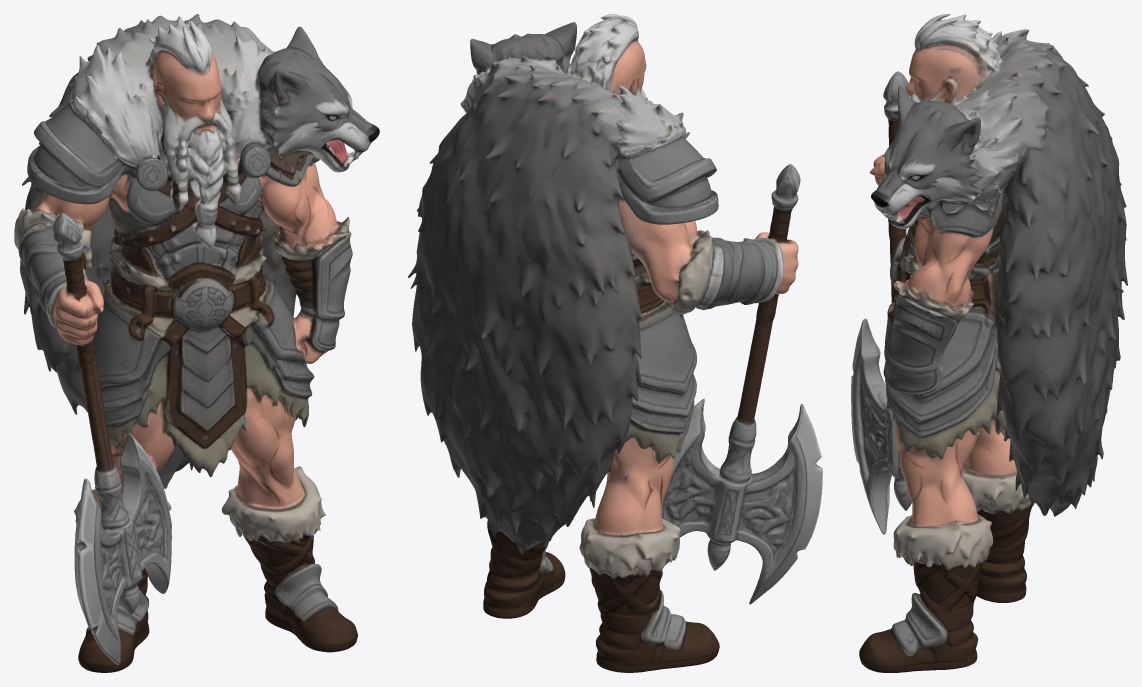
The model's file is barbarianChief-optimized.glb.
3 renders of one model, left to right at view 1: azimuth 30°, elevation 25°; view 2: azimuth 150°, elevation 25°; view 3: azimuth 270°, elevation 25°, orthographic. The views are drawn at different scales.
Size of the model in its own units: 1.02 by 1.9 by 0.8002.
Materials: 1 (1 with a texture image).
